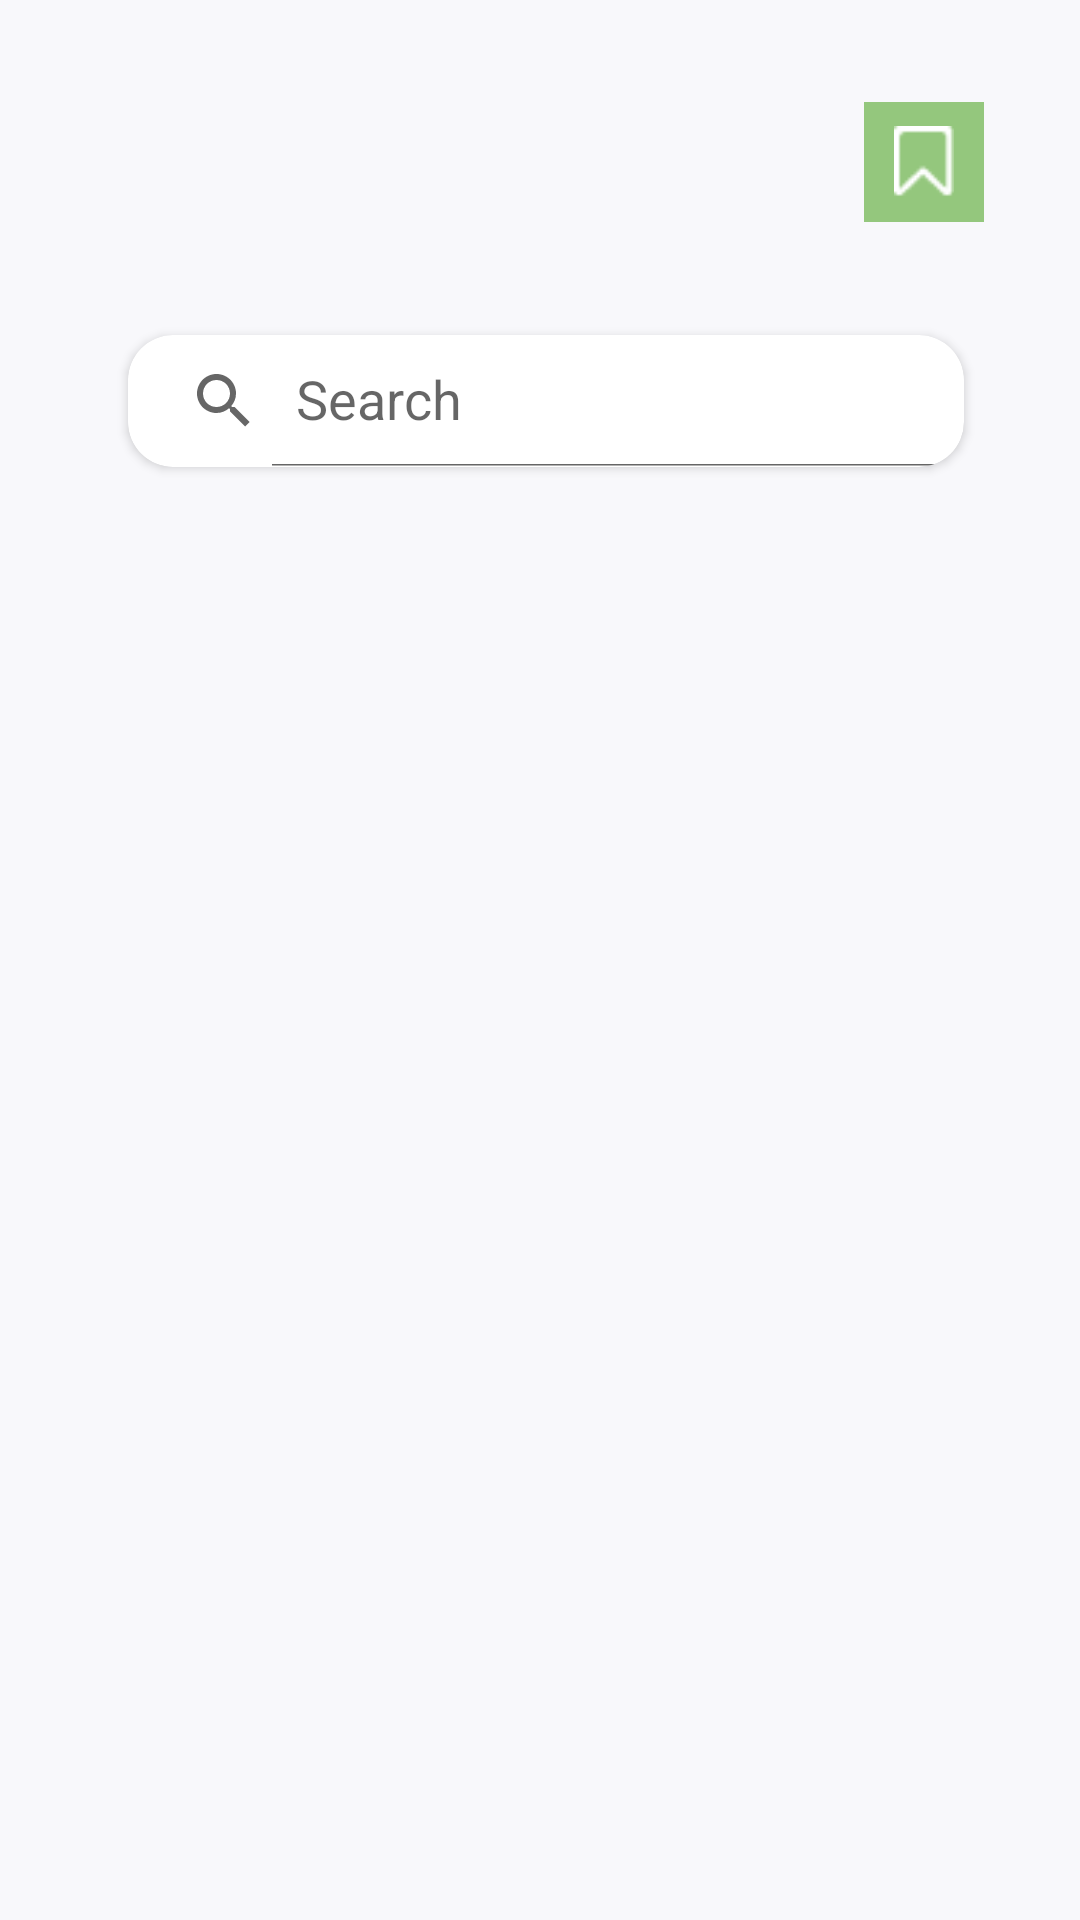

Icons on this 1080x1920 Android screen, each with its box as (x1, y1, x2, y2):
save: (864, 102, 984, 222)
